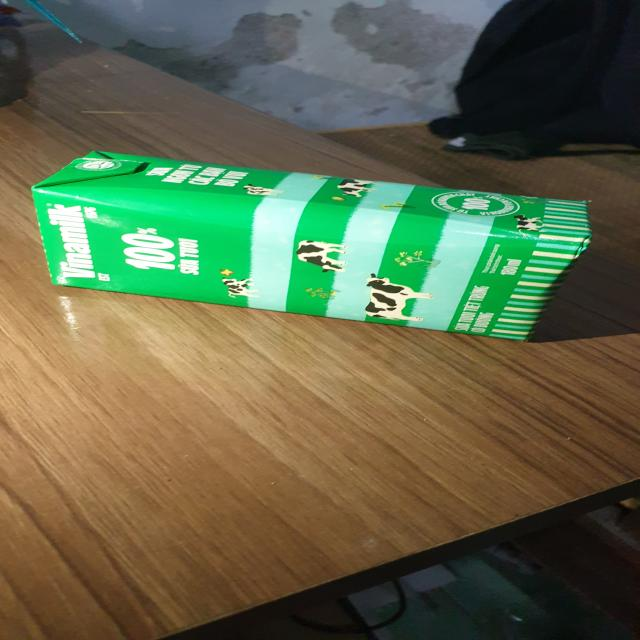Vina: (32, 147, 605, 342)
